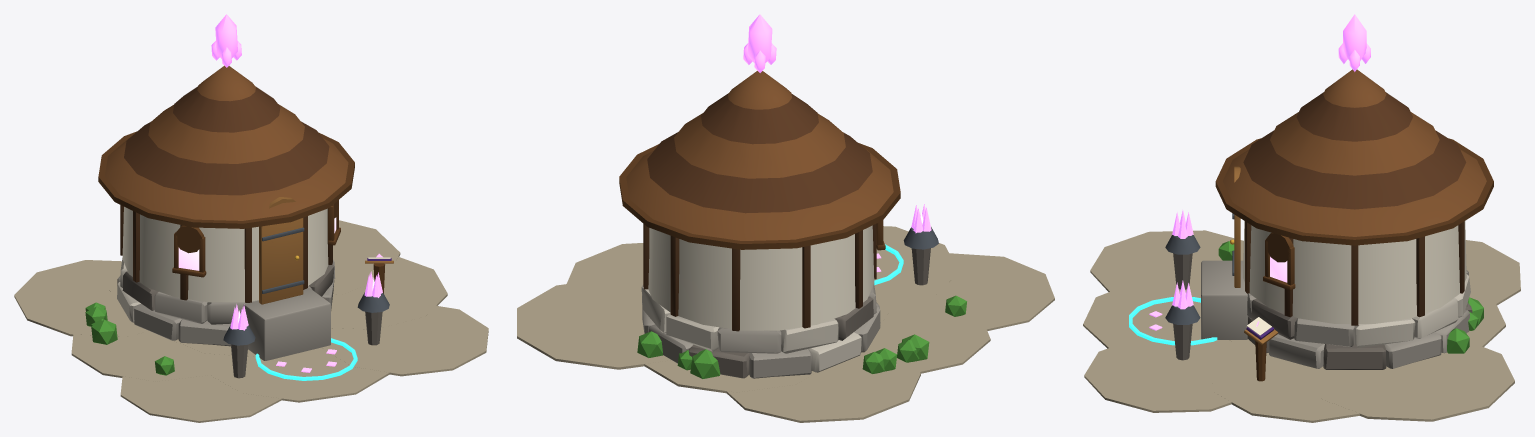
Rendered from budynek_fuzji_poz08.glb.
3 views of the same model, side by side, from view 1: azimuth 30°, elevation 25°; view 2: azimuth 150°, elevation 25°; view 3: azimuth 270°, elevation 25° (orthographic). The views are drawn at different scales.
Visible parts, largest first — view 1: budynek_fuzji_poz08; view 2: budynek_fuzji_poz08; view 3: budynek_fuzji_poz08.
Boxes of the visible parts, left/top/right/bottom form: budynek_fuzji_poz08: left=14, top=14, right=488, bottom=422; budynek_fuzji_poz08: left=517, top=14, right=1054, bottom=422; budynek_fuzji_poz08: left=1083, top=14, right=1520, bottom=422.
Size of the model in its own units: 8.65 by 6.72 by 8.4.
